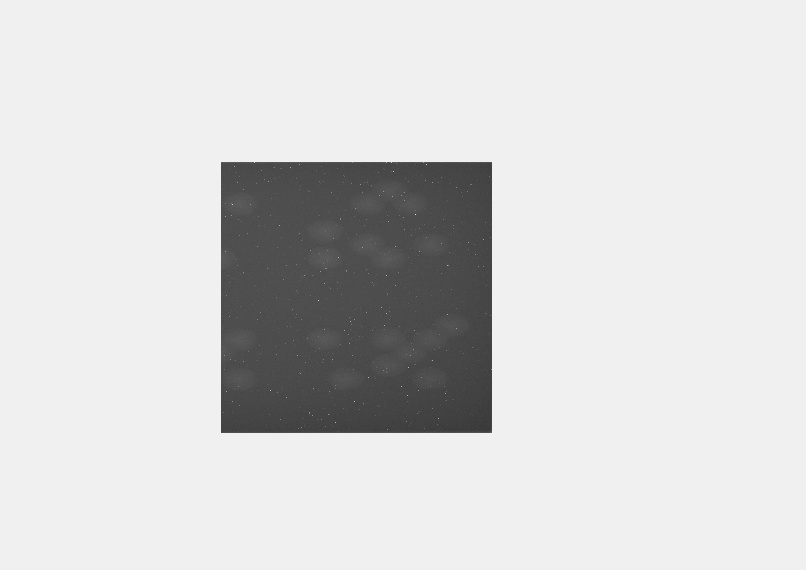cluster: (306, 312, 470, 389), (307, 180, 446, 270), (220, 194, 259, 269), (220, 326, 256, 390)
